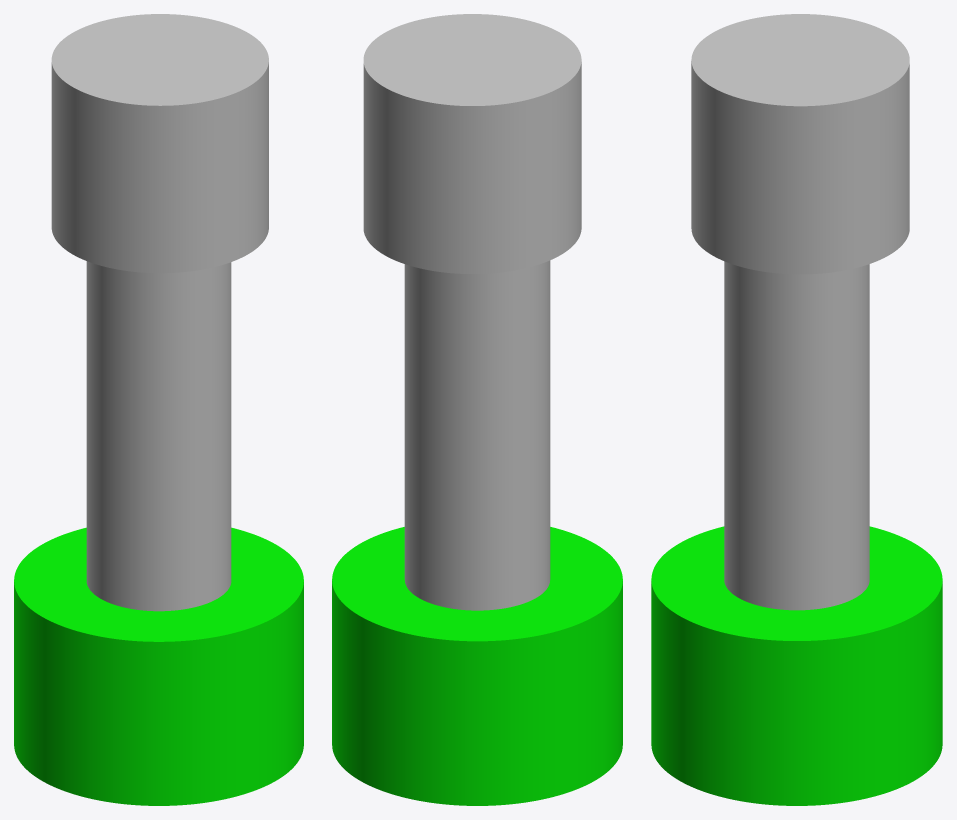
Rendered from Pickbot_Gripper_alt2.dae.
3 renders of one model, left to right at view 1: azimuth 30°, elevation 25°; view 2: azimuth 150°, elevation 25°; view 3: azimuth 270°, elevation 25°, orthographic.
Parts seen in each view (by area): view 1: node1, node2, node0; view 2: node1, node2, node0; view 3: node1, node2, node0.
Boxes of the visible parts, x1,y1,x2,y2 form: node1: [14, 527, 303, 805]; node2: [51, 14, 268, 273]; node0: [86, 261, 231, 611]; node1: [332, 527, 622, 805]; node2: [363, 14, 581, 273]; node0: [404, 260, 550, 610]; node1: [651, 526, 942, 805]; node2: [691, 14, 909, 274]; node0: [724, 261, 869, 610].
Size of the model in its own units: 80 by 80 by 208.
